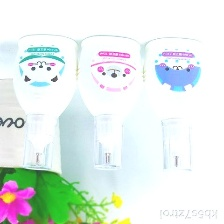correction_fluid: (9, 30, 81, 174), (73, 33, 146, 172), (140, 34, 210, 175)
